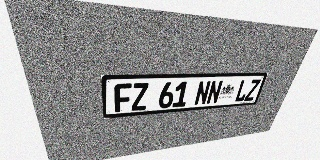1: (172, 81, 190, 107)
6: (158, 82, 175, 109)
F: (114, 83, 132, 112)
L: (234, 79, 251, 102)
N: (194, 81, 211, 105), (206, 80, 223, 104)
Z: (132, 83, 149, 111), (244, 79, 261, 101)
